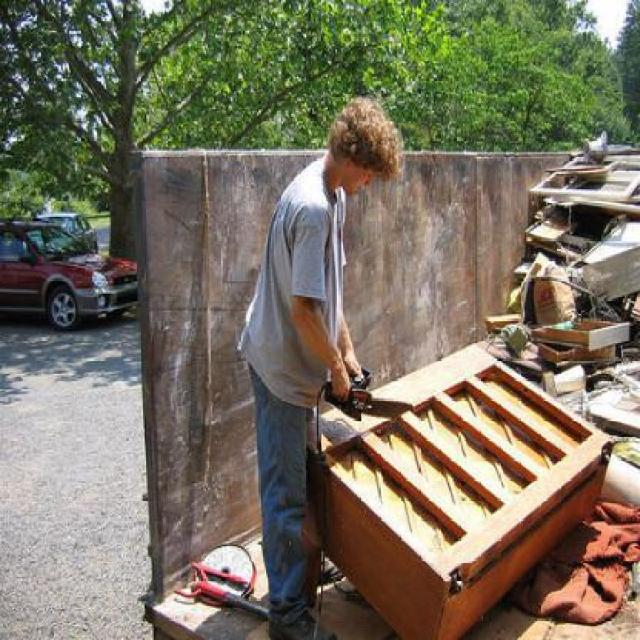Chainsaw: (324, 365, 414, 417)
